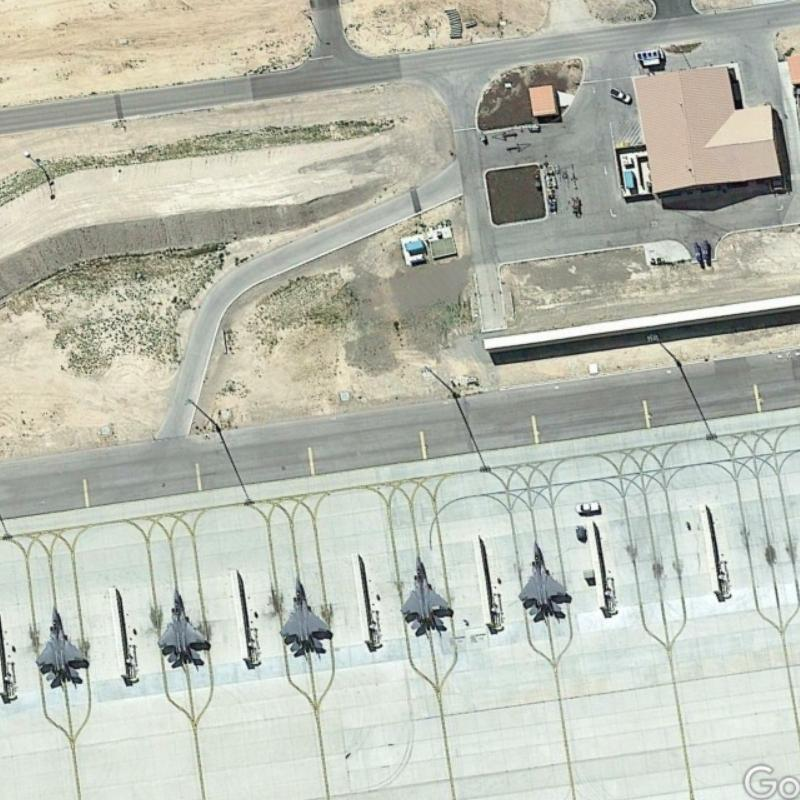A13: (149, 583, 211, 670), (273, 574, 334, 656), (397, 550, 452, 636), (33, 601, 89, 685), (516, 537, 570, 618)
